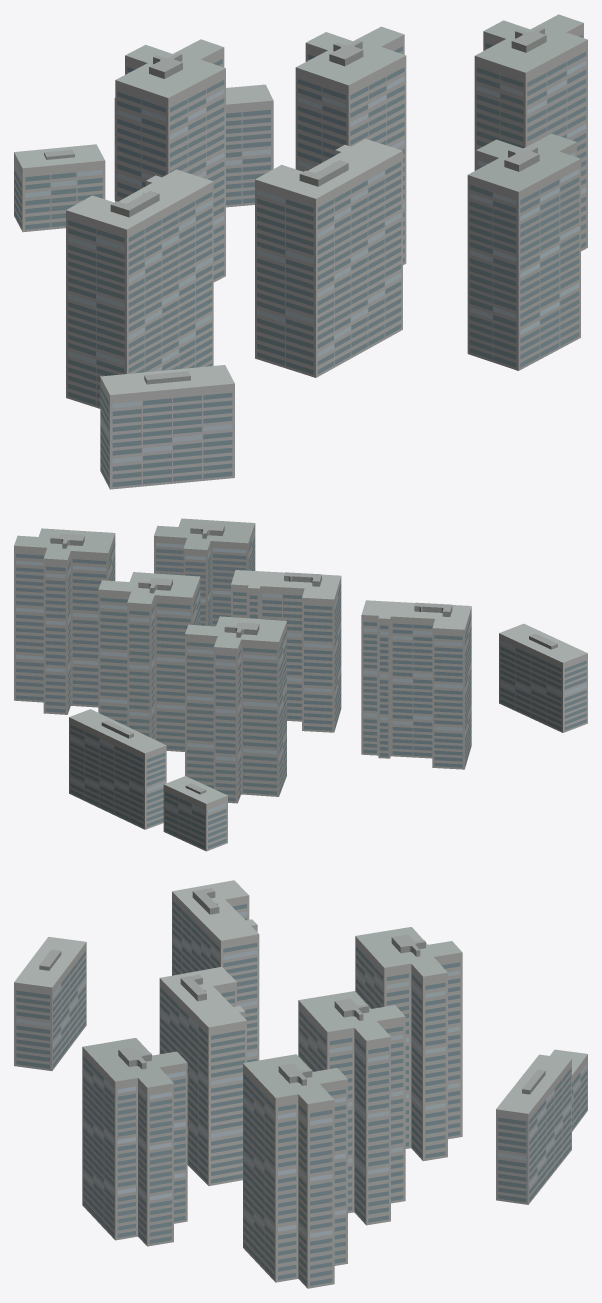
Rendered from apt-a10027633.glb.
The picture shows the model from 3 angles, top to bottom: view 1: azimuth 30°, elevation 25°; view 2: azimuth 150°, elevation 25°; view 3: azimuth 270°, elevation 25°; orthographic projection. The views are drawn at different scales.
Visible parts, largest first — view 1: apt-a10027633; view 2: apt-a10027633; view 3: apt-a10027633.
Boxes of the visible parts, x1,y1,x2,y2 form: apt-a10027633: (14, 14, 587, 489); apt-a10027633: (14, 518, 587, 851); apt-a10027633: (14, 880, 587, 1288).
Size of the model in its own units: 223 by 74 by 202.
